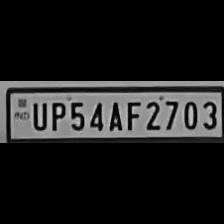0: (179, 98, 199, 130)
2: (142, 98, 162, 130)
3: (200, 97, 218, 130)
4: (87, 98, 105, 130)
5: (66, 98, 86, 130)
7: (160, 98, 178, 130)
A: (104, 98, 122, 130)
F: (122, 98, 140, 130)
P: (47, 99, 65, 131)
U: (28, 99, 48, 130)
